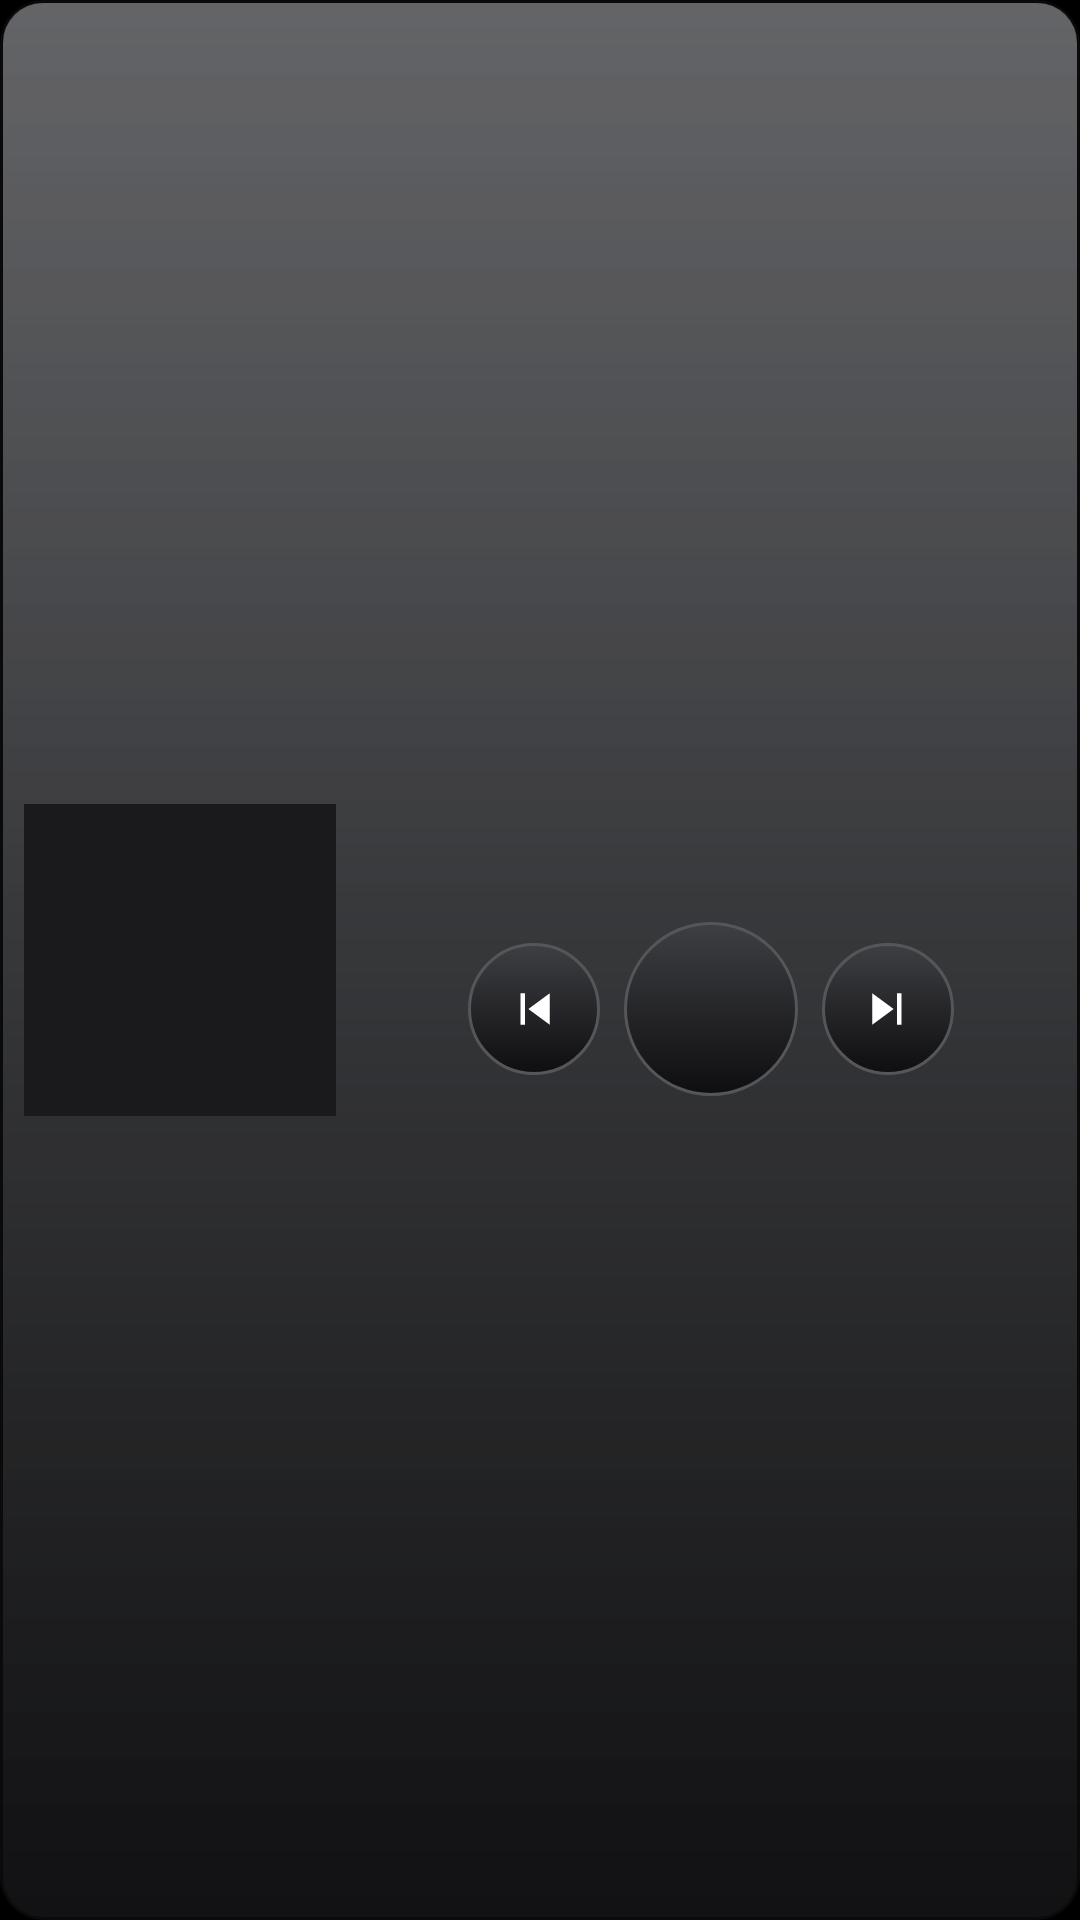

Locate icon controls on the screen. Image size 1080x1920, boxes as bbox(x1, y1, x2, y2).
Next: bbox(822, 943, 954, 1075)
Previous: bbox(468, 943, 600, 1075)
